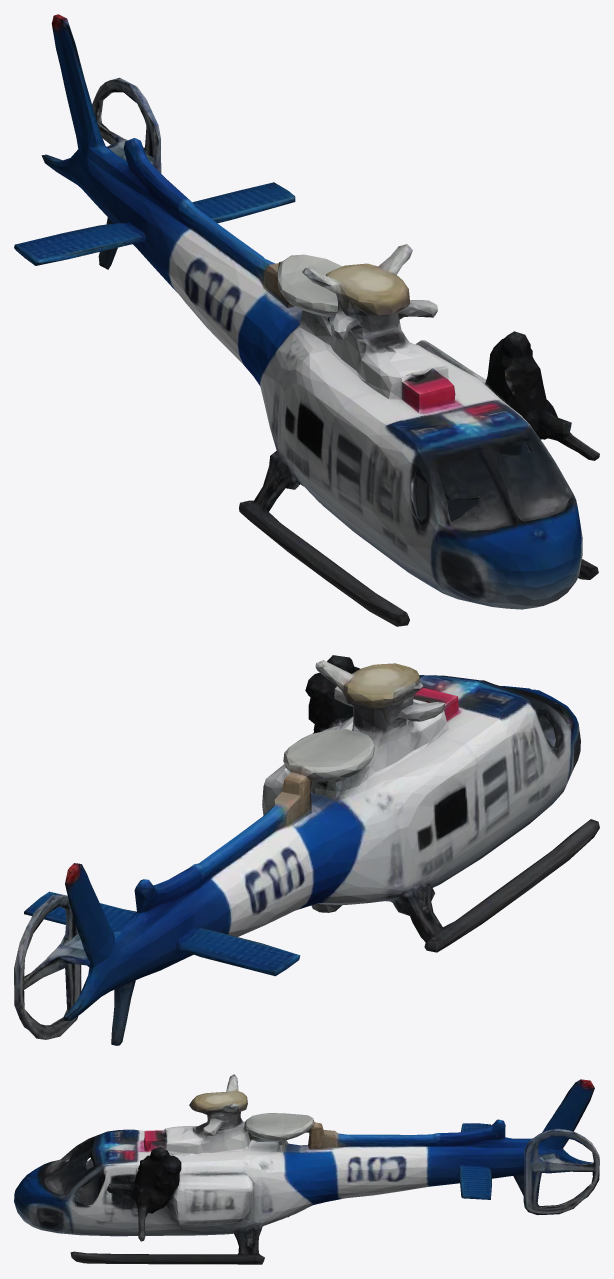
The model's file is heli_blue.glb.
The picture shows the model from 3 angles, top to bottom: view 1: azimuth 30°, elevation 25°; view 2: azimuth 150°, elevation 25°; view 3: azimuth 270°, elevation 25°; orthographic projection. The views are drawn at different scales.
Visible parts, largest first — view 1: geometry_0; view 2: geometry_0; view 3: geometry_0.
Boxes of the visible parts, box(x1,y1,x2,y2) form: geometry_0: box(14, 14, 599, 626); geometry_0: box(14, 655, 599, 1045); geometry_0: box(14, 1074, 599, 1264).
Size of the model in its own units: 0.329 by 0.301 by 0.9992.
1 material, 1 textured.
